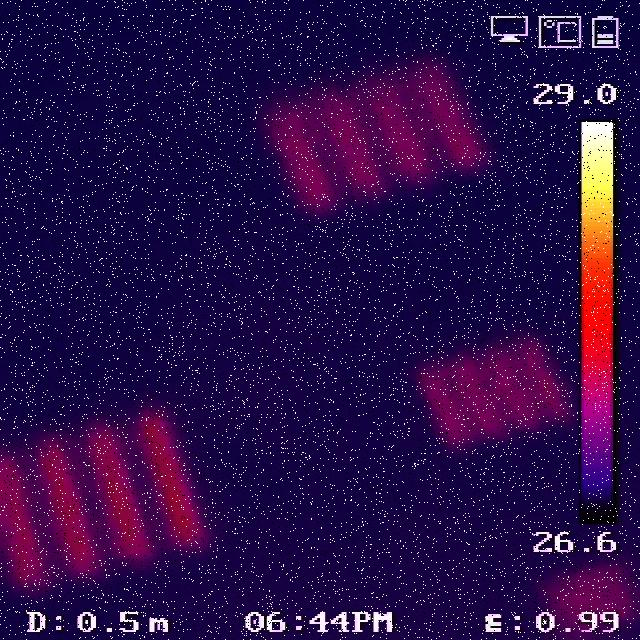Distinguishable 4-bar target: (4, 410, 231, 603), (252, 53, 496, 210)
Indistinguishable 4-bar target: (536, 556, 632, 640)
threshold 4-bar target: (409, 345, 575, 446)
